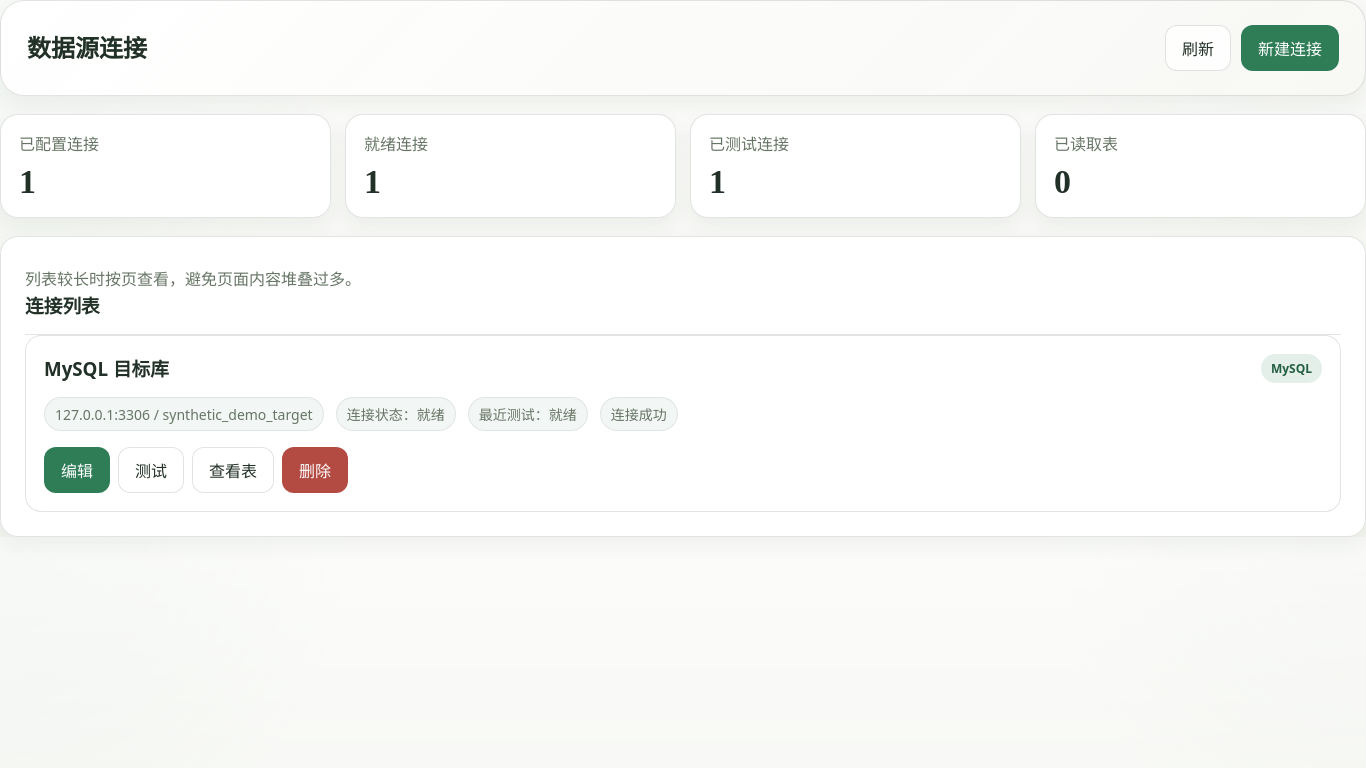
Test: ConnectorsView › shows an error banner when saved connection test reports failure
Click the button "测试".
click(151, 470)  # box [118,447,184,493]
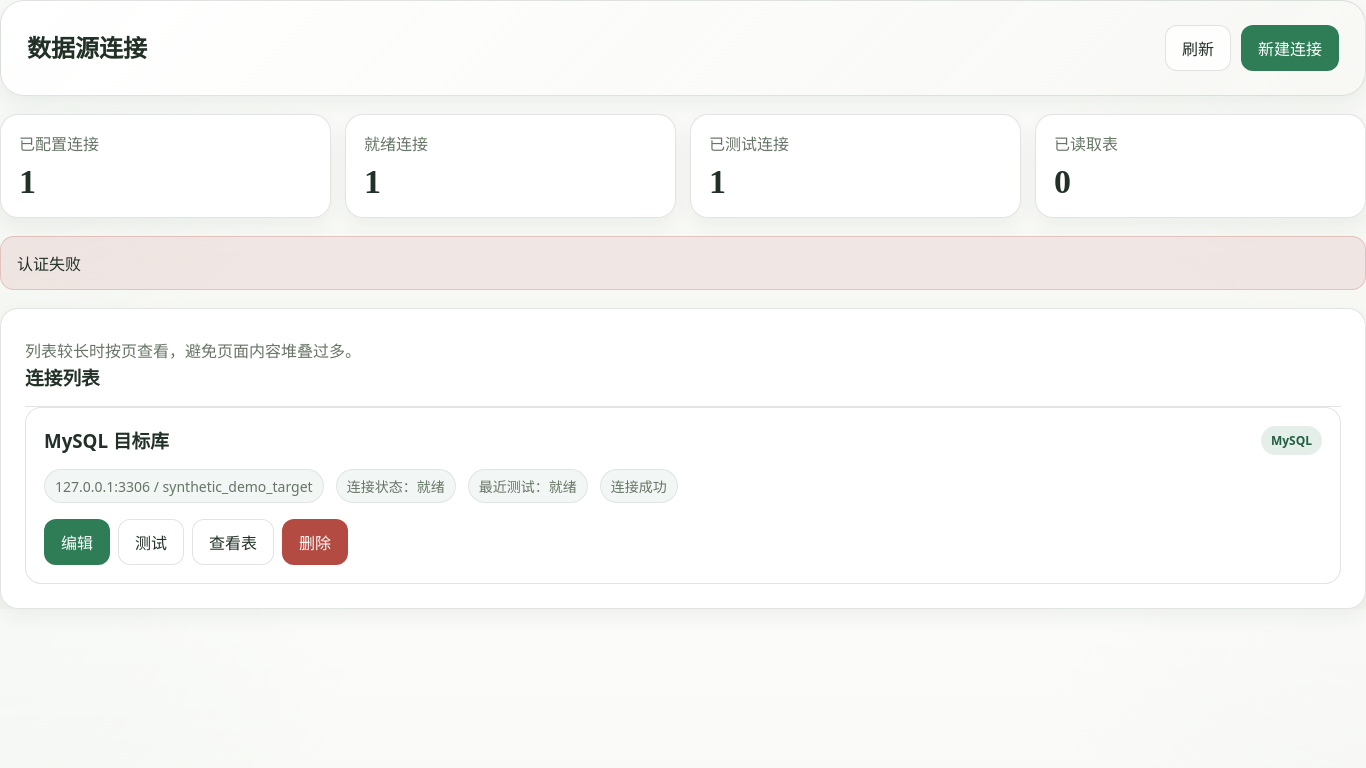
Expected: the text "认证失败" is shown, [0,236,1365,290]
